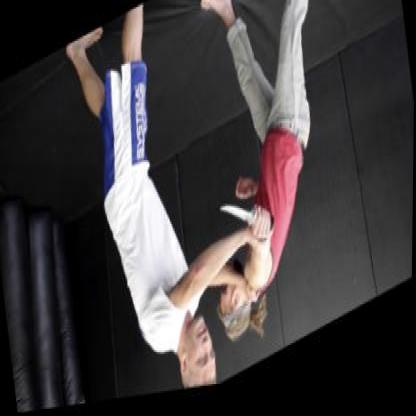knife: (216, 181, 282, 271)
